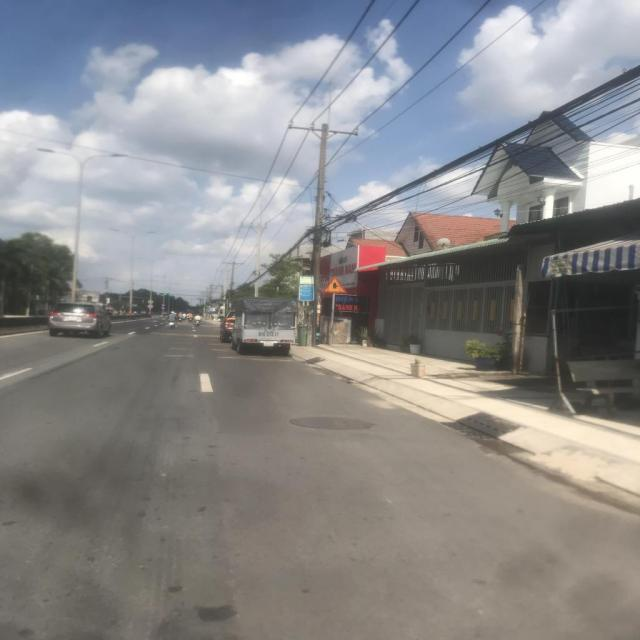cam_xe_di_nguoc_chieu: (161, 304, 165, 306)
giao_nhau_voi_duong_khong_uu_tien: (323, 276, 348, 292)
huong_phai_di_vuot_chuong_ngai_vat_phai: (161, 306, 166, 310)
khac: (210, 308, 216, 313)
